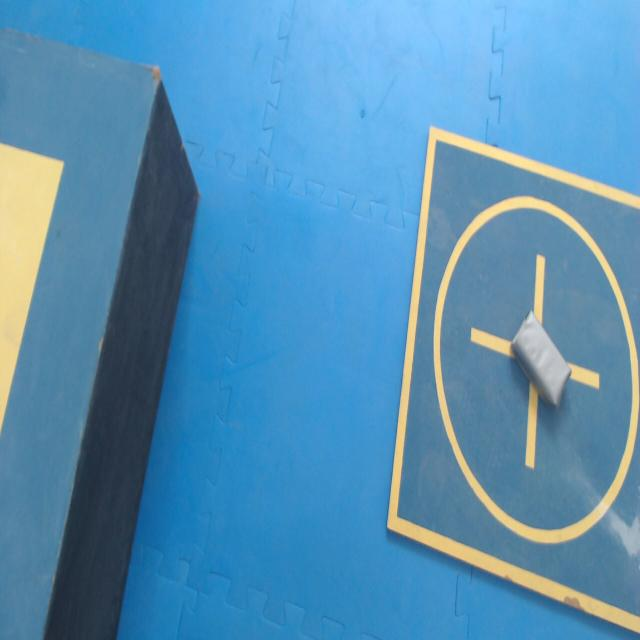esquerda: (512, 311, 570, 405)
